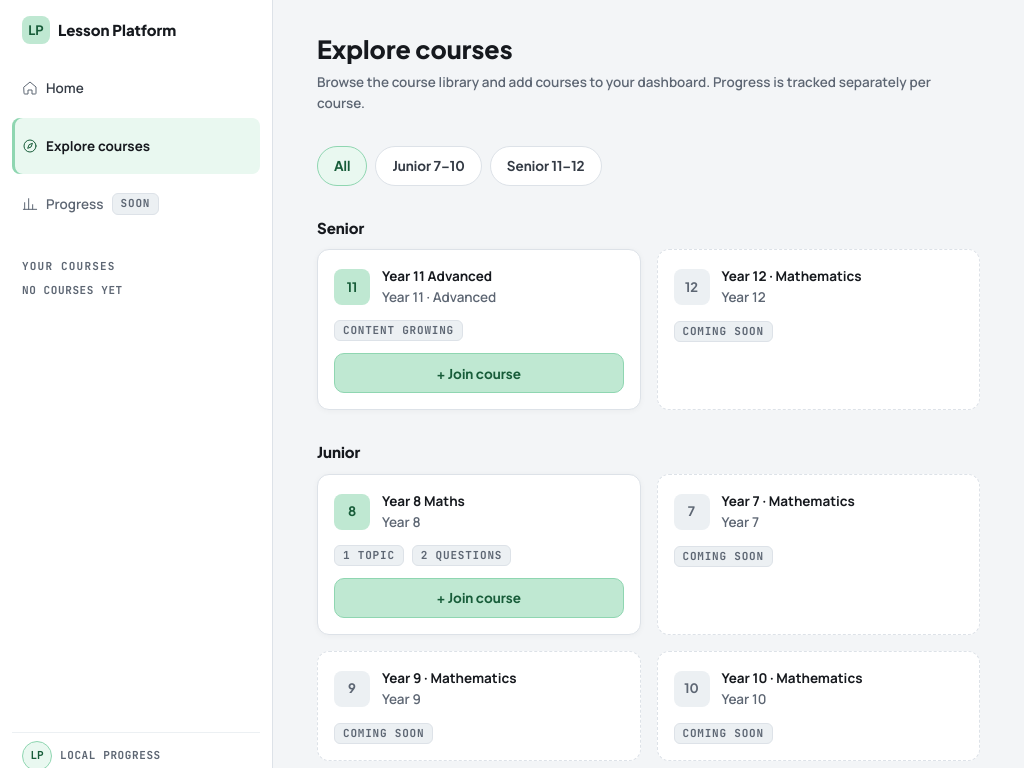
it: Explore courses (/explore) › joining flips the control to ✓ Added with a JOINED chip and updates the sidebar
Click the button "+ Join course" below "Year 11 Advanced": (479, 373) [334,353,624,393]
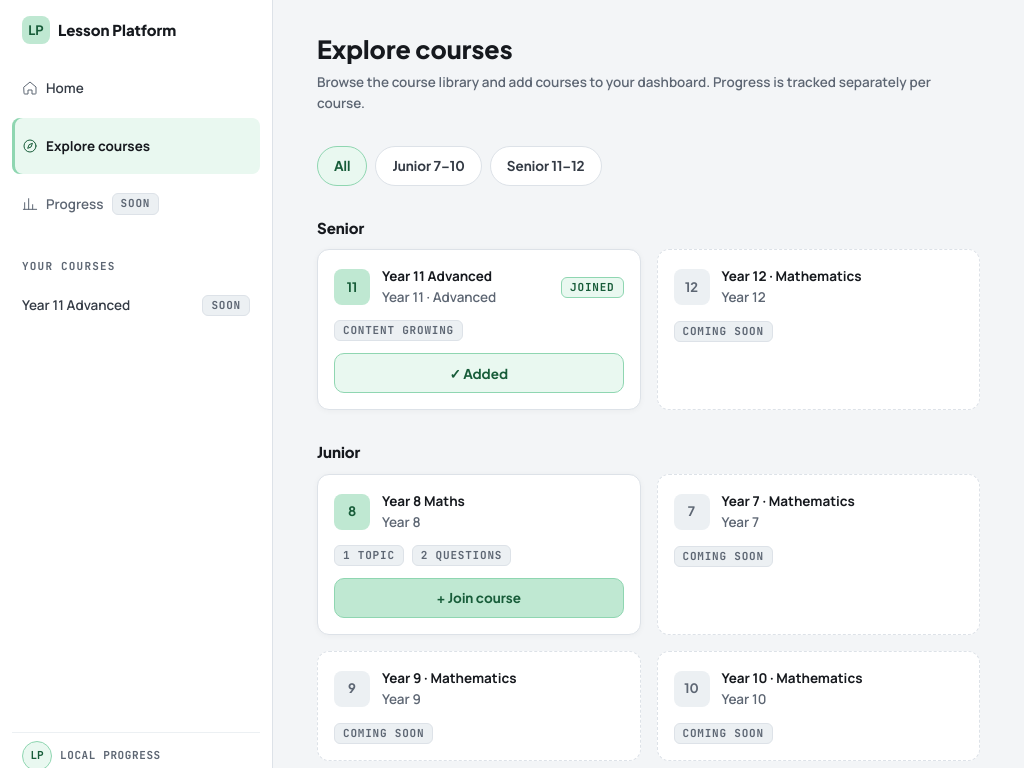
Expected: the button "✓ Added" is shown, [334,353,624,393]
Expected: the text "Joined" is shown, [561,277,624,298]
Expected: the link "Year 11 Advanced Soon" is shown, [22,295,250,316]
